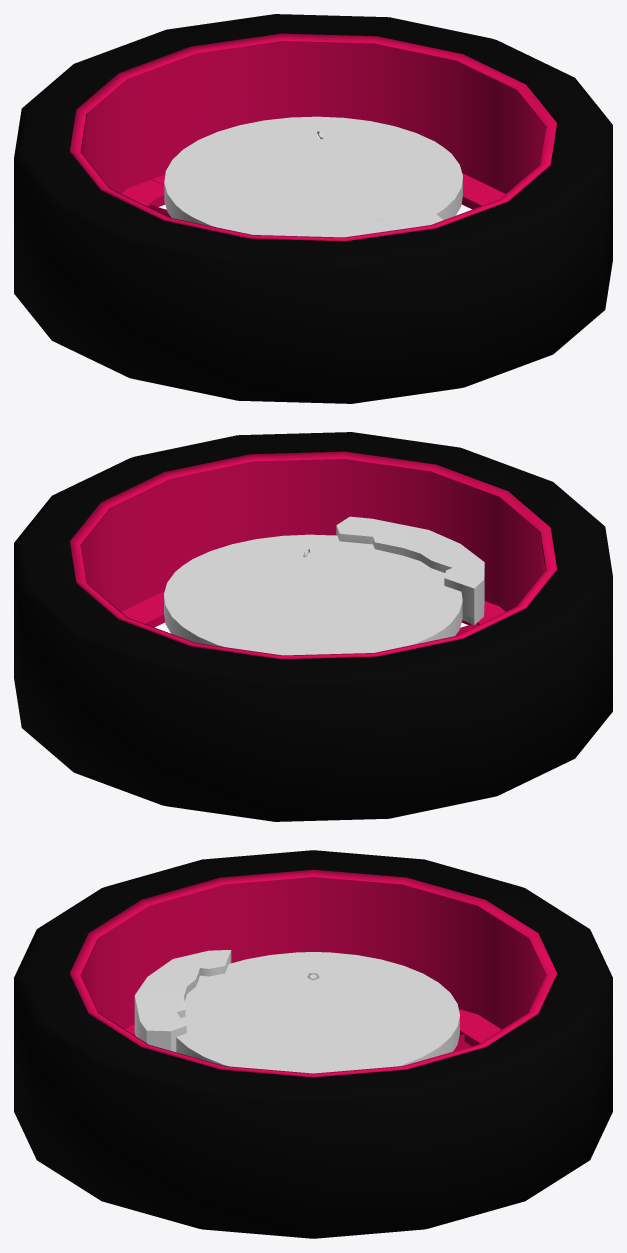
The picture shows the model from 3 angles, top to bottom: view 1: azimuth 30°, elevation 25°; view 2: azimuth 150°, elevation 25°; view 3: azimuth 270°, elevation 25°; orthographic projection.
Parts seen in each view (by area): view 1: RearRight.000; view 2: RearRight.000; view 3: RearRight.000.
Part boxes in pixels (x1,y1,x2,y2): RearRight.000: [14, 14, 612, 403]; RearRight.000: [14, 432, 612, 821]; RearRight.000: [14, 850, 612, 1238].
Size of the model in its own units: 0.2729 by 0.2729 by 0.0739.
